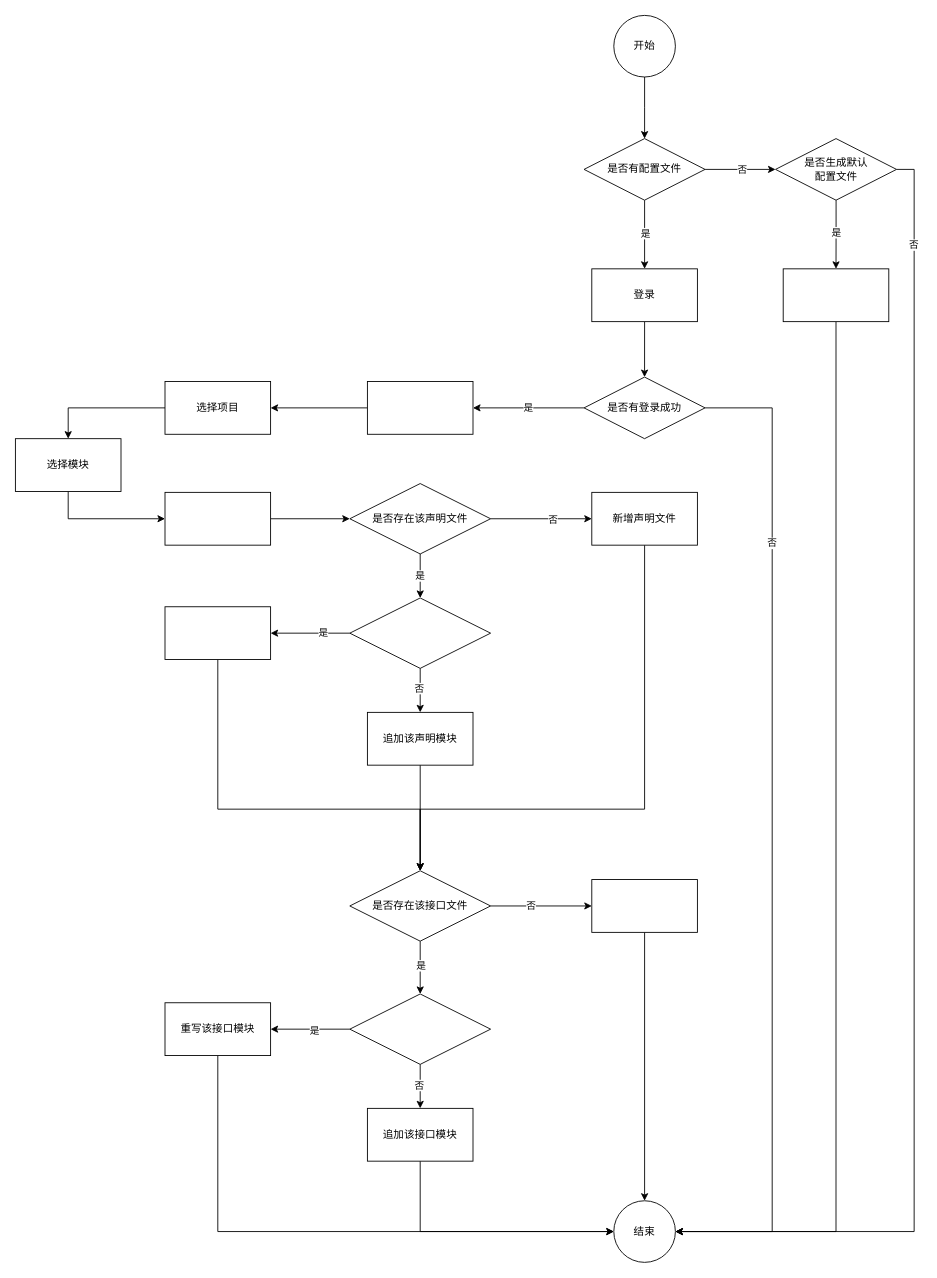
This 937x1278 diagram has some shape labels left out. The centre of each missing label's shape, as x and y in pixels:
"新增接口文件" belongs at (x=644, y=905).
"是否存在该声明模块" belongs at (x=420, y=632).
"是否存在该接口模块" belongs at (x=420, y=1028).
"生成默认配置" belongs at (x=835, y=295).
"获取接口详细信息" belongs at (x=217, y=518).
"选择分组" belongs at (x=420, y=407).
"重写该声明模块" belongs at (x=217, y=633).
